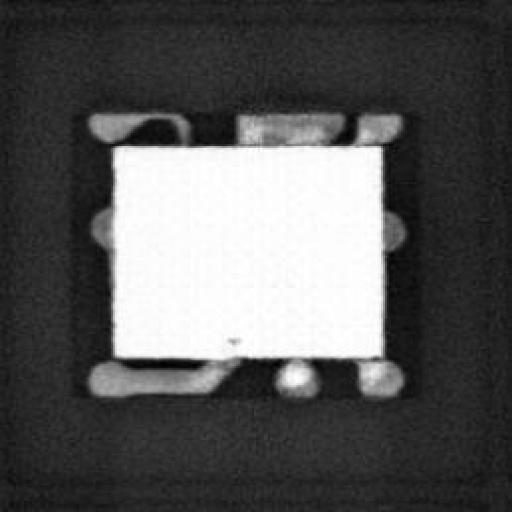DIE_INK: (224, 332, 242, 345)
